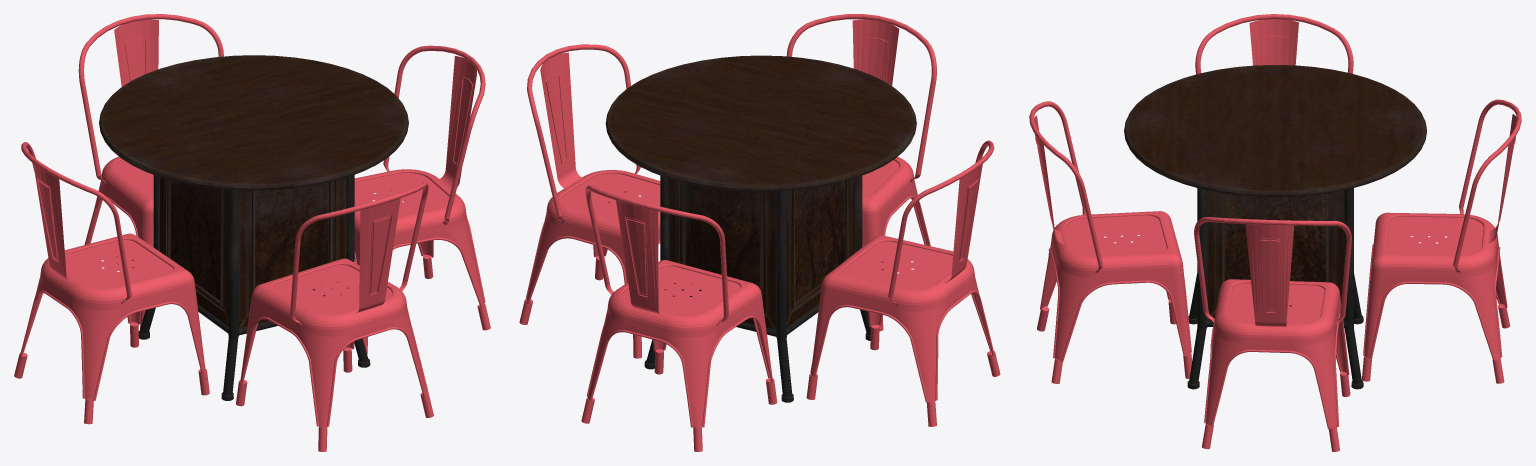
File: huddle_table.glb
The picture shows the model from 3 angles, left to right: view 1: azimuth 30°, elevation 25°; view 2: azimuth 150°, elevation 25°; view 3: azimuth 270°, elevation 25°; orthographic projection. The views are drawn at different scales.
Parts seen in each view (by area): view 1: round_wooden_table_02_0_n0, tolix_chair_0_n2, tolix_chair_0_n3, tolix_chair_0_n4, tolix_chair_0_n1; view 2: round_wooden_table_02_0_n0, tolix_chair_0_n1, tolix_chair_0_n3, tolix_chair_0_n4, tolix_chair_0_n2; view 3: round_wooden_table_02_0_n0, tolix_chair_0_n4, tolix_chair_0_n2, tolix_chair_0_n1, tolix_chair_0_n3.
Part boxes in pixels (left/top/right/bottom): round_wooden_table_02_0_n0: left=99, top=55, right=408, bottom=400; tolix_chair_0_n2: left=236, top=182, right=433, bottom=451; tolix_chair_0_n3: left=14, top=142, right=209, bottom=424; tolix_chair_0_n4: left=354, top=45, right=490, bottom=354; tolix_chair_0_n1: left=78, top=14, right=223, bottom=328; round_wooden_table_02_0_n0: left=605, top=55, right=916, bottom=402; tolix_chair_0_n1: left=581, top=185, right=777, bottom=451; tolix_chair_0_n3: left=806, top=140, right=1000, bottom=426; tolix_chair_0_n4: left=519, top=44, right=660, bottom=358; tolix_chair_0_n2: left=786, top=14, right=936, bottom=331; round_wooden_table_02_0_n0: left=1124, top=65, right=1426, bottom=389; tolix_chair_0_n4: left=1194, top=217, right=1351, bottom=451; tolix_chair_0_n2: left=1029, top=101, right=1192, bottom=383; tolix_chair_0_n1: left=1362, top=99, right=1521, bottom=383; tolix_chair_0_n3: left=1195, top=14, right=1353, bottom=74.
Size of the model in its own units: 1.62 by 0.86 by 1.62.
Materials: 2 (1 with a texture image).
